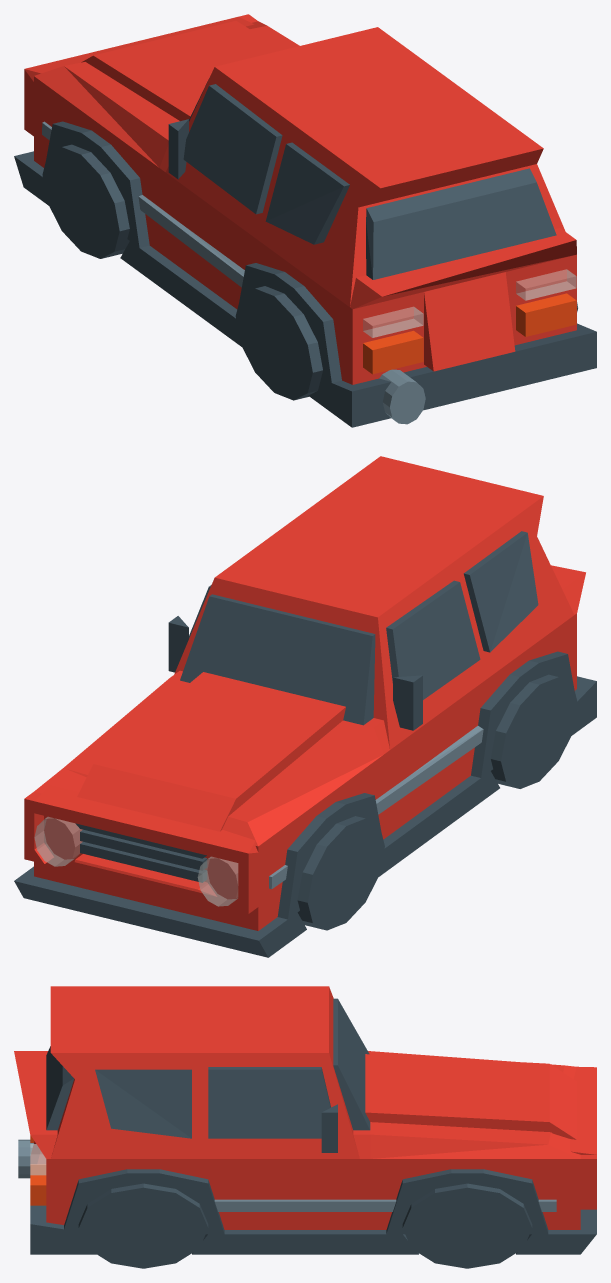
Rendered from golf.glb.
The picture shows the model from 3 angles, top to bottom: view 1: azimuth 30°, elevation 25°; view 2: azimuth 150°, elevation 25°; view 3: azimuth 270°, elevation 25°; orthographic projection. The views are drawn at different scales.
Visible parts, largest first — view 1: group2017902997, group373236087, group547768100, group2118011109, group359046379, group2060816111, group686971371, group2008520726, group1729932470, group740239471, group1603761372, group1129954348 (+5 smaller); view 2: group2017902997, group583836635, group547768100, group1372723494, group1092676882, group2060816111, group686971371, group2008520726, group2044362016, group10036750, group1729932470, group740239471 (+4 smaller); view 3: group2017902997, group842921121, group2060816111, group686971371, group2008520726, group159400031, group1903564485, group1372723494, group583836635, group116960146, group2118011109, group1092676882 (+4 smaller).
Part boxes in pixels (<box>): group2017902997: <box>34,21,576,384</box>; group373236087: <box>366,168,556,279</box>; group547768100: <box>183,84,349,244</box>; group2118011109: <box>308,323,596,427</box>; group359046379: <box>424,272,515,371</box>; group2060816111: <box>42,144,129,258</box>; group686971371: <box>235,286,577,400</box>; group2008520726: <box>120,241,241,346</box>; group1729932470: <box>46,121,149,247</box>; group740239471: <box>239,263,341,382</box>; group1603761372: <box>516,269,576,336</box>; group1129954348: <box>363,307,423,374</box>; group2017902997: <box>34,456,585,930</box>; group583836635: <box>180,594,375,725</box>; group547768100: <box>386,531,538,699</box>; group1372723494: <box>24,785,267,913</box>; group1092676882: <box>14,866,306,957</box>; group2060816111: <box>297,816,384,930</box>; group686971371: <box>490,674,577,788</box>; group2008520726: <box>378,771,499,876</box>; group2044362016: <box>75,823,207,882</box>; group10036750: <box>34,817,237,906</box>; group1729932470: <box>277,793,381,919</box>; group740239471: <box>471,651,574,777</box>; group2017902997: <box>14,986,580,1229</box>; group842921121: <box>95,1067,330,1138</box>; group2060816111: <box>402,1183,532,1268</box>; group686971371: <box>78,1183,208,1268</box>; group2008520726: <box>192,1230,418,1254</box>; group159400031: <box>386,1169,548,1234</box>; group1903564485: <box>64,1169,224,1234</box>; group1372723494: <box>564,1066,596,1209</box>; group583836635: <box>333,998,370,1130</box>; group116960146: <box>214,1199,556,1211</box>; group2118011109: <box>30,1148,96,1254</box>; group1092676882: <box>516,1209,596,1254</box>.
Size of the model in its own units: 1.85 by 1.55 by 4.2.
